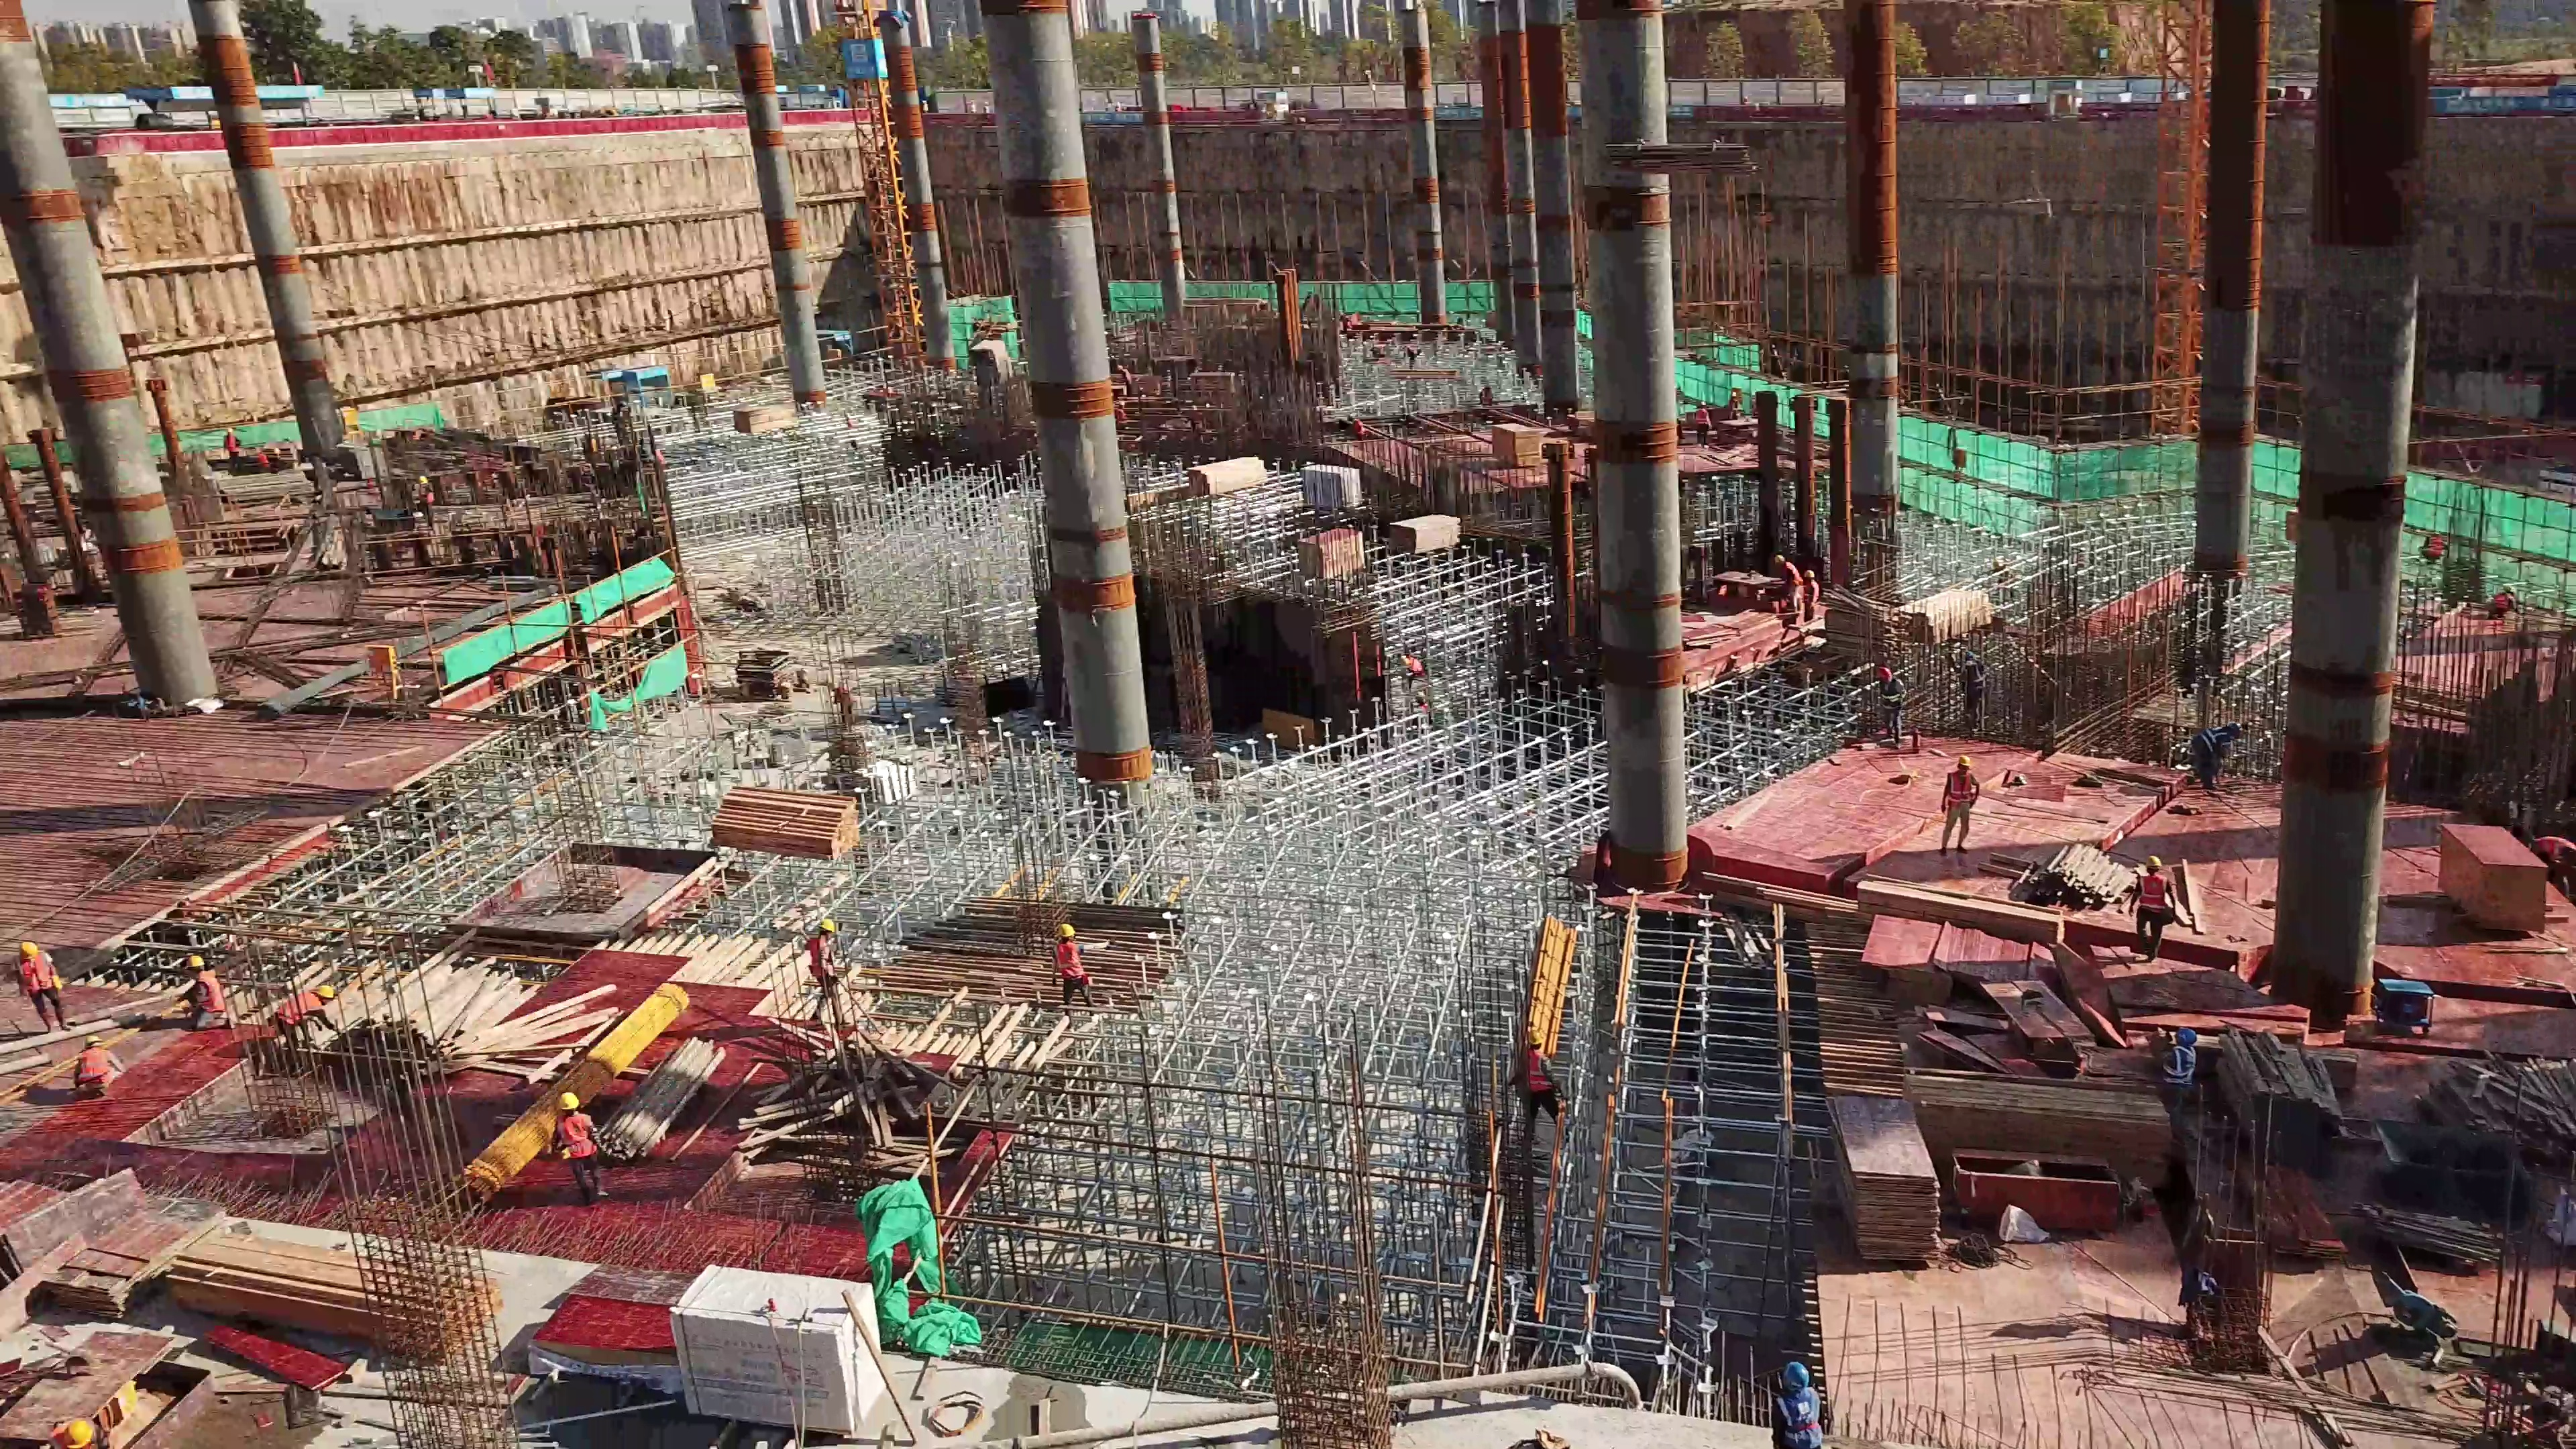helmet: (1780, 1362, 1811, 1389), (315, 978, 340, 1000), (182, 949, 205, 970), (555, 1093, 583, 1111), (17, 938, 41, 958), (2175, 1028, 2200, 1045), (78, 1031, 105, 1048), (817, 918, 841, 932), (1951, 755, 1974, 769), (1056, 920, 1075, 938), (2142, 856, 2166, 869), (2229, 718, 2246, 736), (1527, 1031, 1546, 1045), (417, 474, 431, 486), (1877, 666, 1892, 680)
person: (543, 1092, 619, 1207), (1751, 1359, 1836, 1448), (2121, 855, 2186, 965), (797, 915, 858, 1030), (13, 922, 72, 1038), (269, 977, 345, 1063), (1046, 918, 1116, 1014), (1930, 753, 1987, 860), (1518, 1029, 1570, 1138), (174, 945, 233, 1036), (63, 1030, 130, 1106), (2159, 1025, 2210, 1126), (2187, 713, 2247, 794), (1870, 657, 1914, 744), (1951, 647, 1990, 733), (2529, 824, 2576, 890), (413, 471, 444, 532), (2486, 584, 2526, 625), (2419, 525, 2455, 566), (1696, 396, 1716, 449)
vest: (1776, 1394, 1828, 1447), (547, 1112, 600, 1157), (272, 987, 319, 1026), (15, 960, 64, 996), (2135, 873, 2178, 914), (73, 1048, 118, 1083), (2164, 1044, 2199, 1087), (803, 937, 841, 978), (1054, 941, 1091, 979), (2537, 834, 2576, 871), (1521, 1049, 1556, 1089), (188, 975, 225, 1011), (2195, 720, 2229, 759), (1943, 771, 1977, 806), (1880, 680, 1906, 711), (2489, 590, 2510, 612), (2424, 535, 2447, 555), (1697, 410, 1711, 427)
